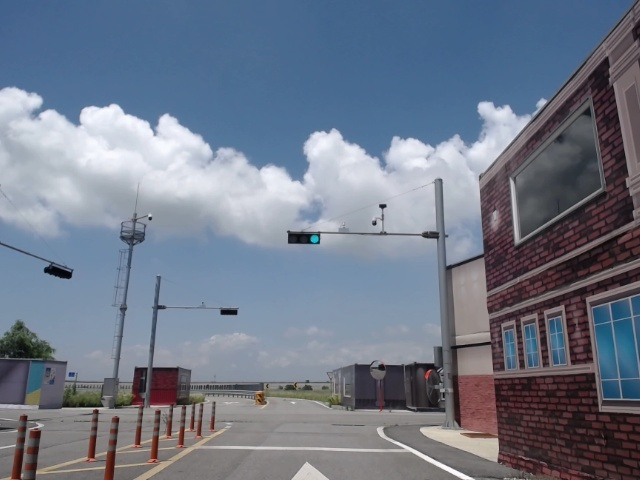green_3: (288, 232, 320, 244)
